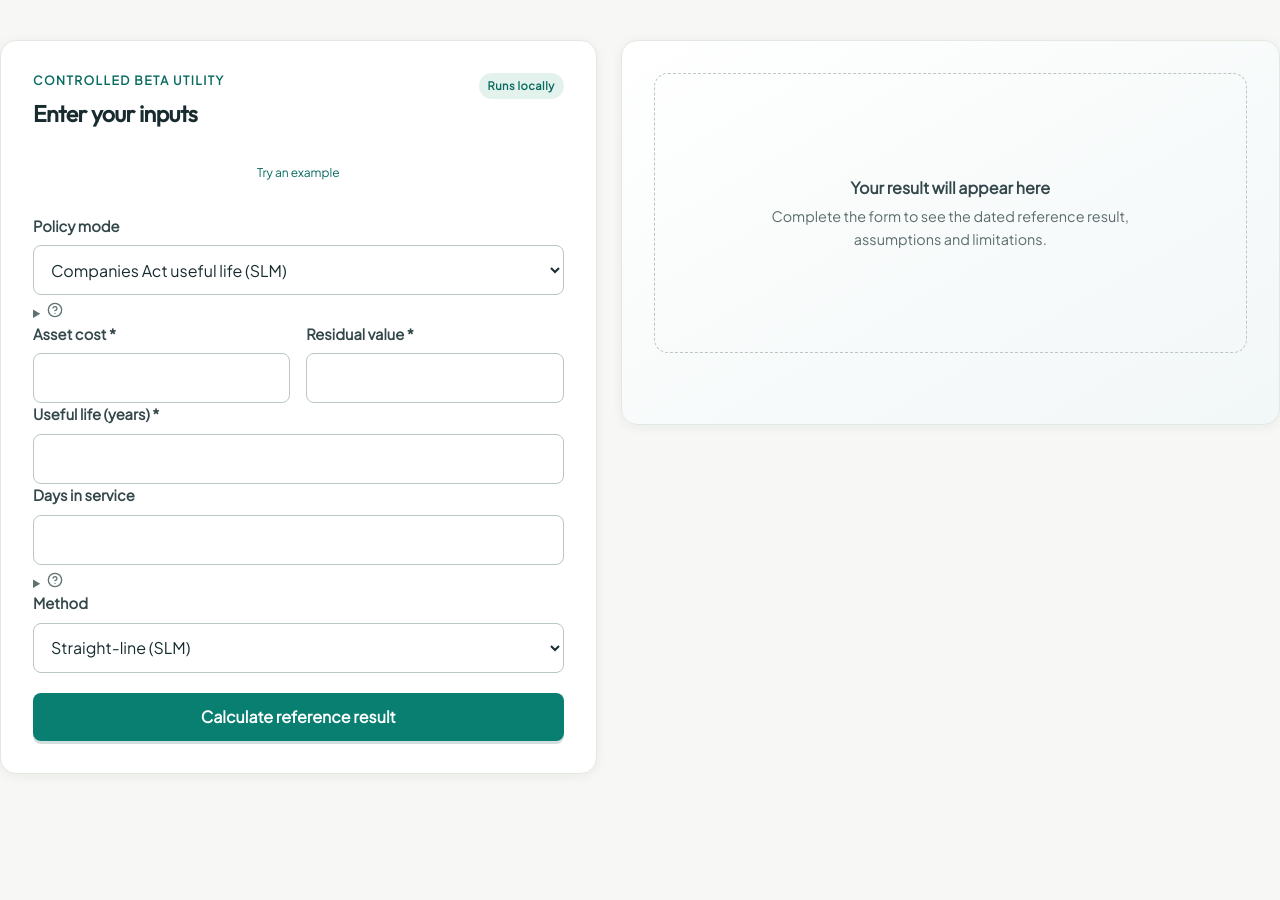
Test: regulated utility form › switches depreciation modes without changing the page shell
Click the button "Try an example" at (298, 173), box [33,151,564,195]
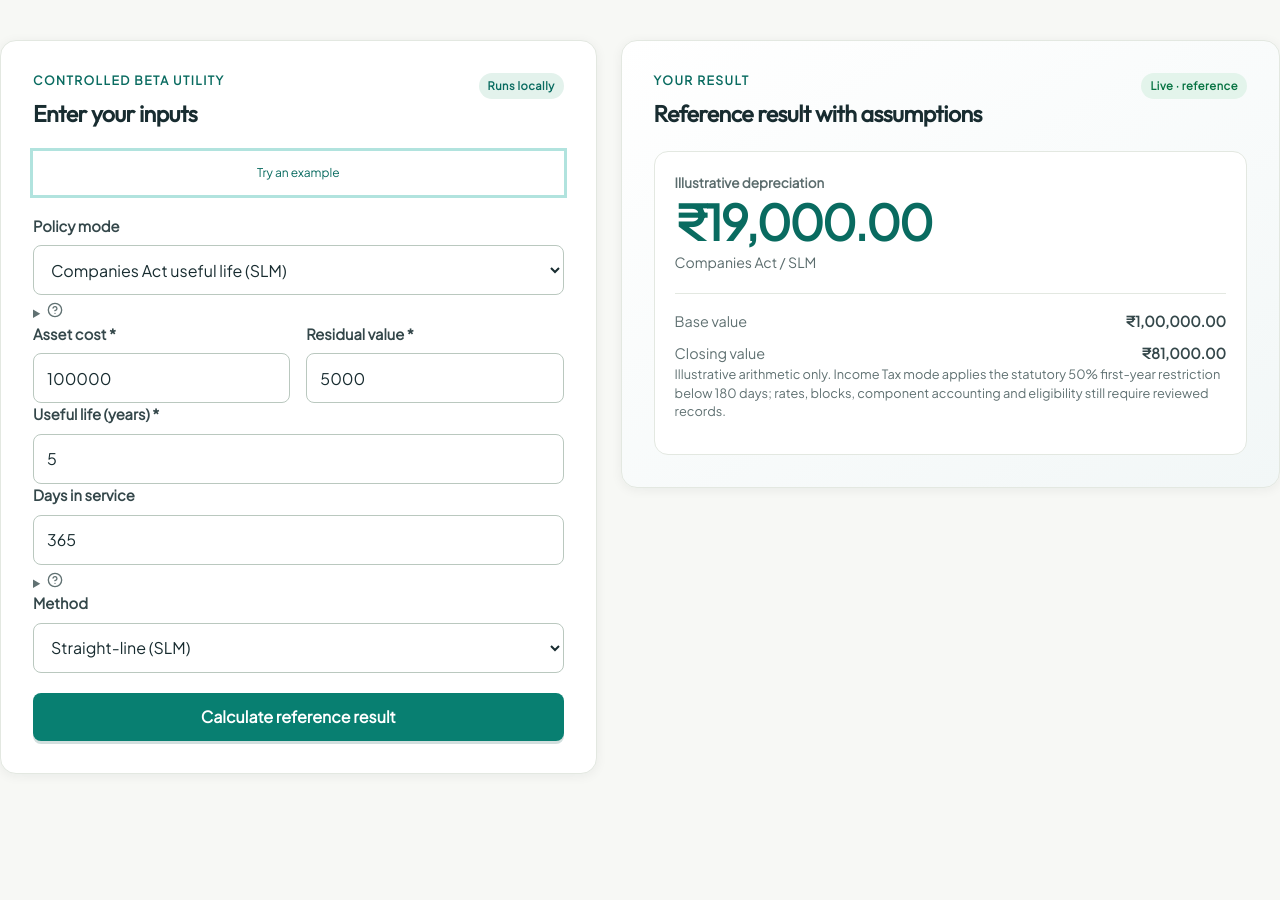
Click the button "Calculate reference result" at (298, 717), box [33,693,564,741]
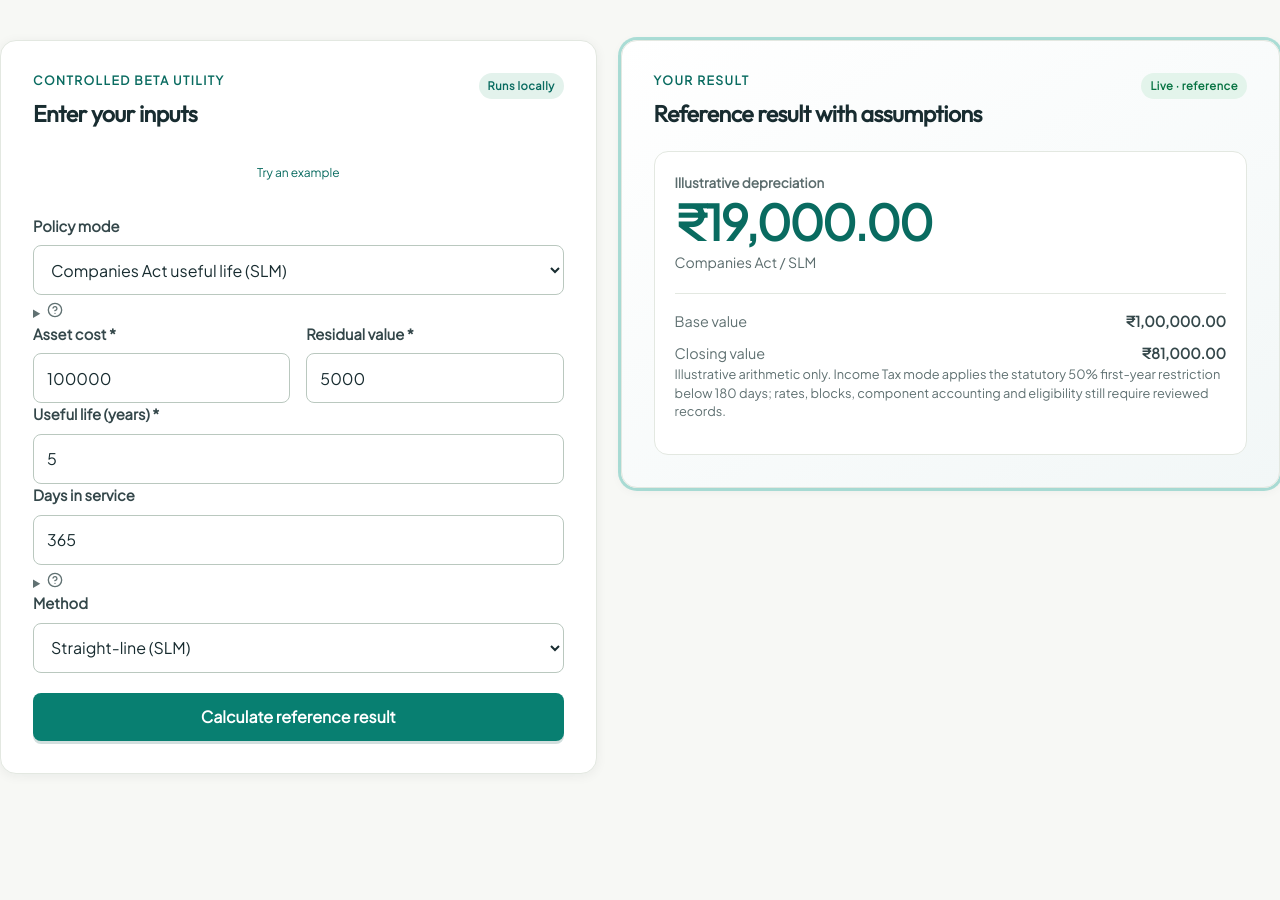
Now the text "Illustrative depreciation" is shown, box [675,174,824,191]
Now the text "Companies Act / SLM" is shown, box [675,253,816,271]
Select "Income Tax rate / WDV" in the dropdown labelled "Policy mode" at (298, 270), box [33,245,564,295]
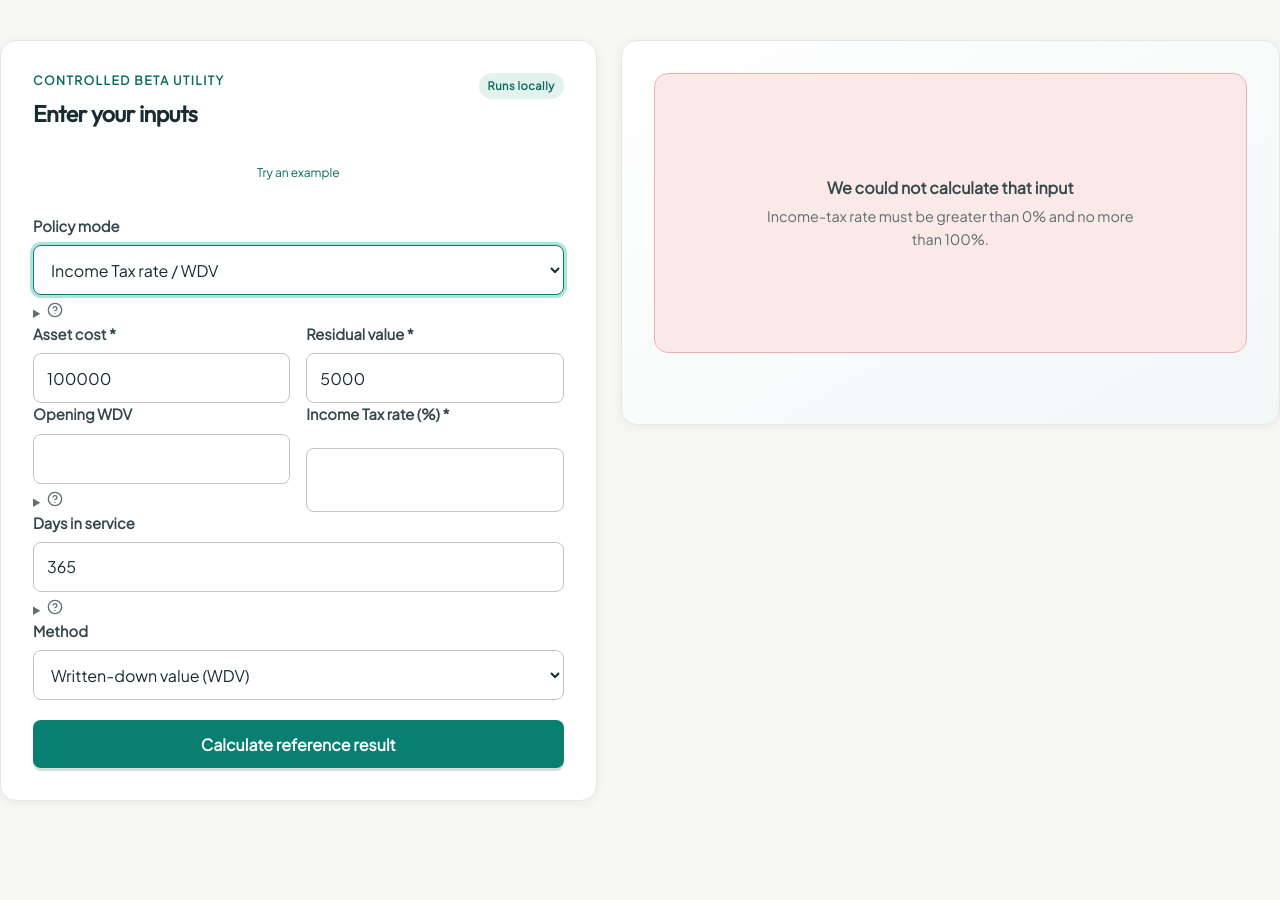
Now the dropdown labelled "Method" shows "Written-down value (WDV)", box [33,650,564,700]
